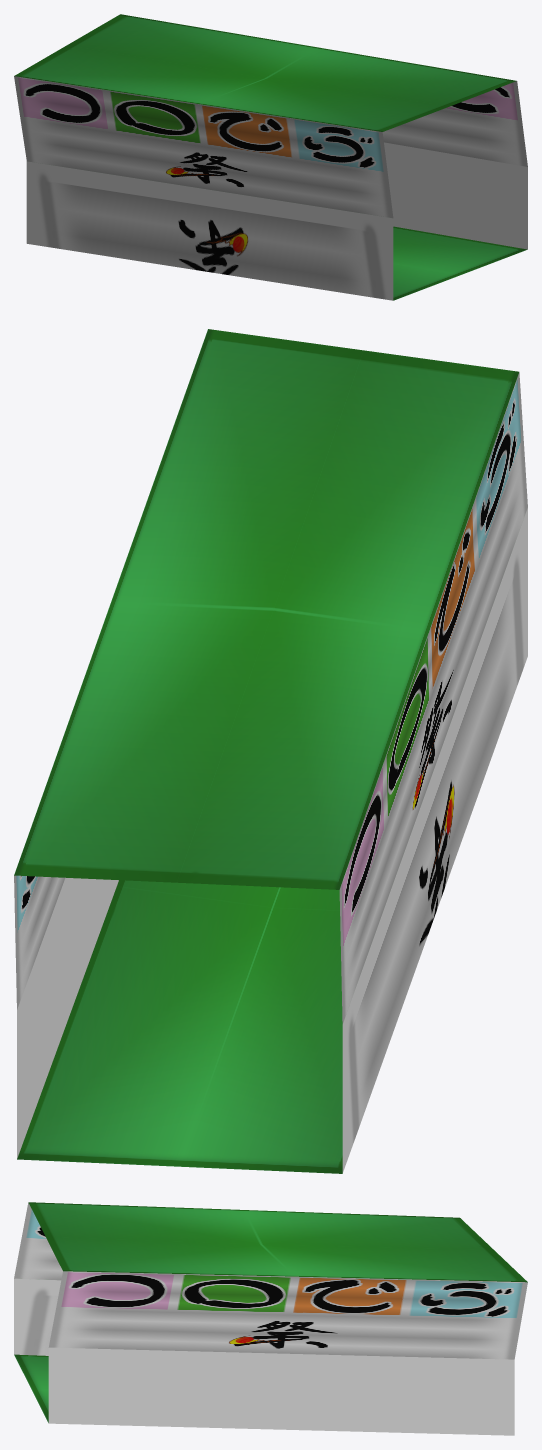
The model's file is CourseSummer_Concave_3_2.fbx.
3 renders of one model, top to bottom at view 1: azimuth 30°, elevation 25°; view 2: azimuth 150°, elevation 25°; view 3: azimuth 270°, elevation 25°, orthographic. The views are drawn at different scales.
Parts seen in each view (by area): view 1: polySurface280; view 2: polySurface280; view 3: polySurface280.
Boxes of the visible parts, x1,y1,x2,y2 form: polySurface280: [14, 14, 527, 300]; polySurface280: [14, 329, 527, 1173]; polySurface280: [14, 1202, 527, 1435].
Size of the model in its own units: 3.69 by 2.98 by 6.12.
Materials: 1 (1 with a texture image).
